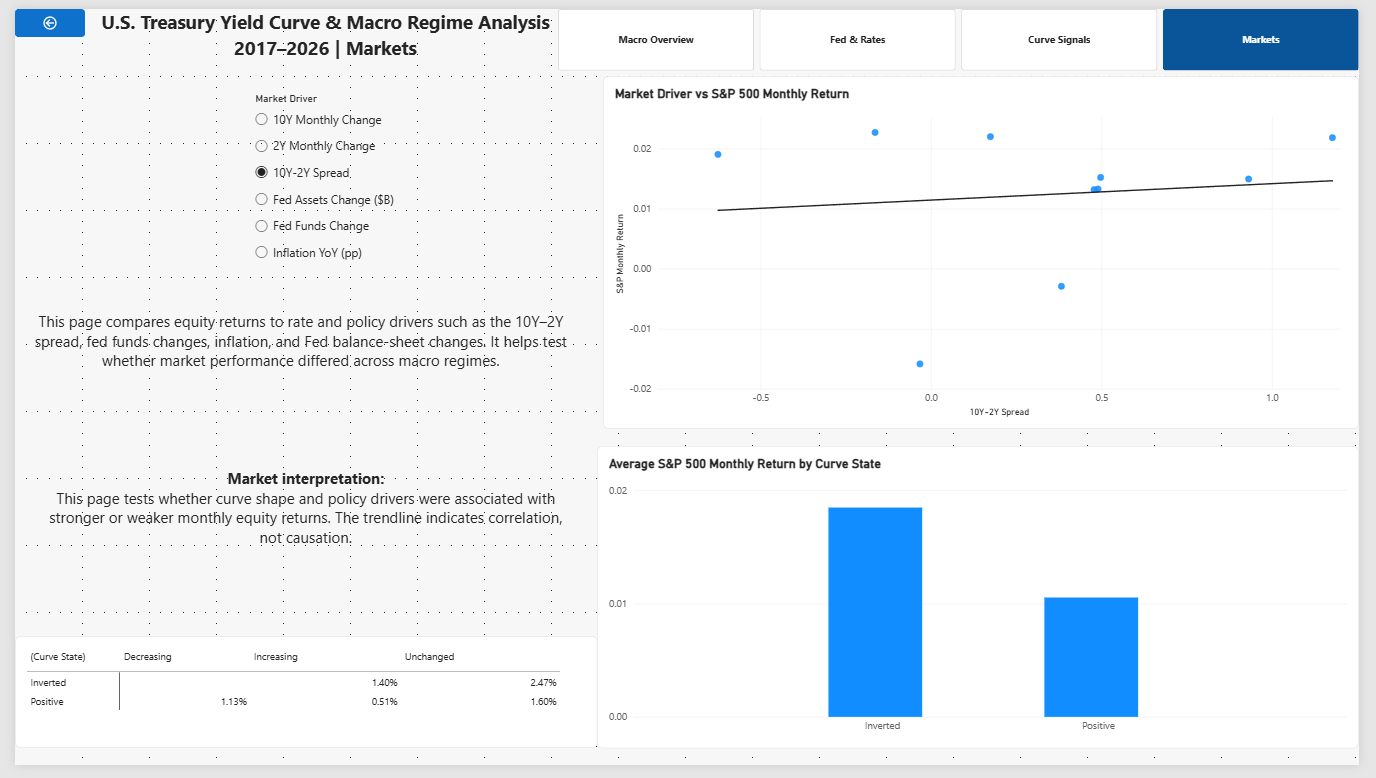

What the dashboard file says about the page in this screenshot:
{"tool":"powerbi","page":{"name":"Markets","canvas":[1920,1080],"ordinal":3},"visuals":[{"type":"slicer","fields":{"Values":["Market Driver.Market Driver"]},"box":[336,120,236,284],"z":0},{"type":"scatterChart","title":"Market Driver vs S&P 500 Monthly Return","fields":{"Category":["analytics dim_month.month_date.Variation.Date Hierarchy.Year","analytics dim_month.month_date.Variation.Date Hierarchy.Quarter","analytics dim_month.month_date.Variation.Date Hierarchy.Month","analytics dim_month.month_date.Variation.Date Hierarchy.Day"],"X":["analytics monthly_macro_market.10Y-2Y Treasury Spread (%)"],"Y":["analytics monthly_macro_market.S&P Monthly Return"]},"box":[840,96,1080,504],"z":1},{"type":"pivotTable","fields":{"Columns":["analytics monthly_macro_market.fed_funds_direction"],"Rows":["analytics monthly_macro_market.(Curve State)"],"Values":["Avg(analytics monthly_macro_market.sp500_monthly_return)"]},"box":[0,896,832,160],"z":2},{"type":"actionButton","box":[0,0,100,40],"z":3},{"type":"columnChart","title":"Average S&P 500 Monthly Return by Curve State","fields":{"Category":["analytics monthly_macro_market.(Curve State)"],"Y":["analytics monthly_macro_market.S&P Monthly Return"]},"box":[832,624,1088,432],"z":5},{"type":"textbox","box":[117.5,0,652.5,115],"z":7},{"type":"pageNavigator","box":[775.1,0,1144.9,88.2],"z":8},{"type":"textbox","box":[32,656,768,144],"z":9},{"type":"textbox","box":[24,432,768,168],"z":10}]}

Visuals, with their boxes in screenshot pixels (x1, y1, x2, y2), scaled from the page's 1920x1080 canvas onto the 1376x778 screenshot:
slicer - Market Driver.Market Driver: Rect(241, 86, 410, 291)
"Market Driver vs S&P 500 Monthly Return" scatterChart: Rect(602, 69, 1375, 432)
pivotTable - analytics monthly_macro_market.fed_funds_direction x analytics monthly_macro_market.(Curve State): Rect(0, 645, 596, 761)
actionButton: Rect(0, 0, 72, 29)
"Average S&P 500 Monthly Return by Curve State" columnChart: Rect(596, 450, 1375, 761)
textbox: Rect(84, 0, 552, 83)
pageNavigator: Rect(555, 0, 1375, 64)
textbox: Rect(23, 473, 573, 576)
textbox: Rect(17, 311, 568, 432)
